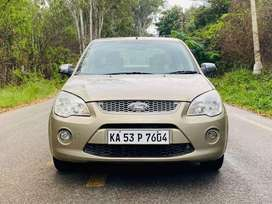KA53P7604: (108, 130, 169, 144)
